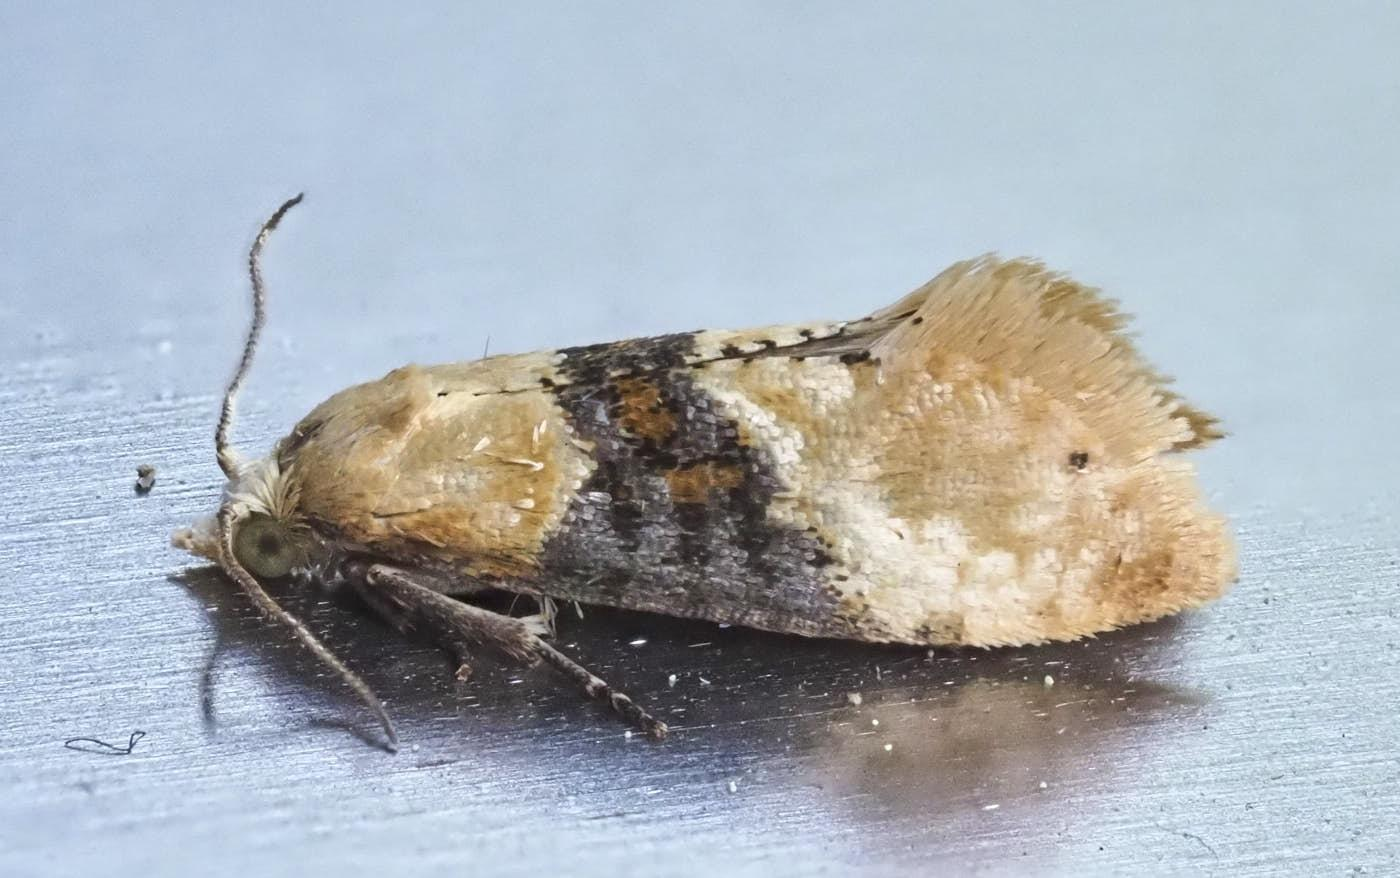Eupoecilia Ambiguella: (168, 189, 1241, 755)
